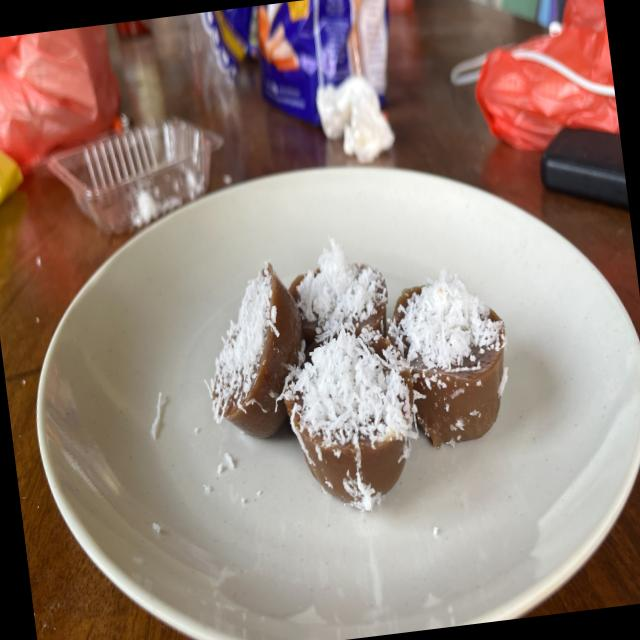Kuih lompang: (284, 329, 414, 509), (388, 269, 506, 447), (209, 262, 302, 437), (289, 238, 388, 360)
